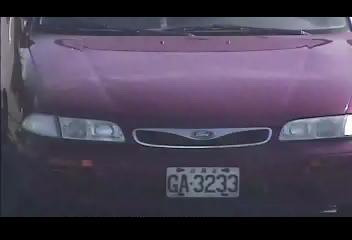plate: (165, 165, 242, 200)
